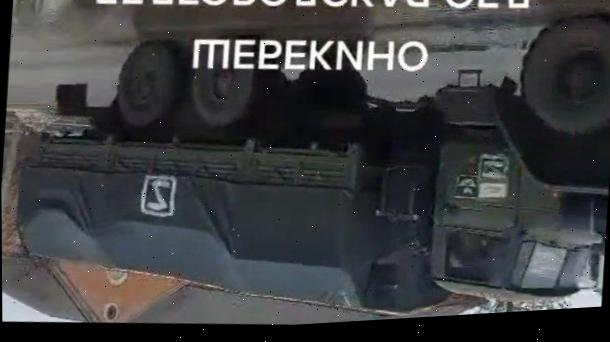truck: (4, 0, 610, 342)
